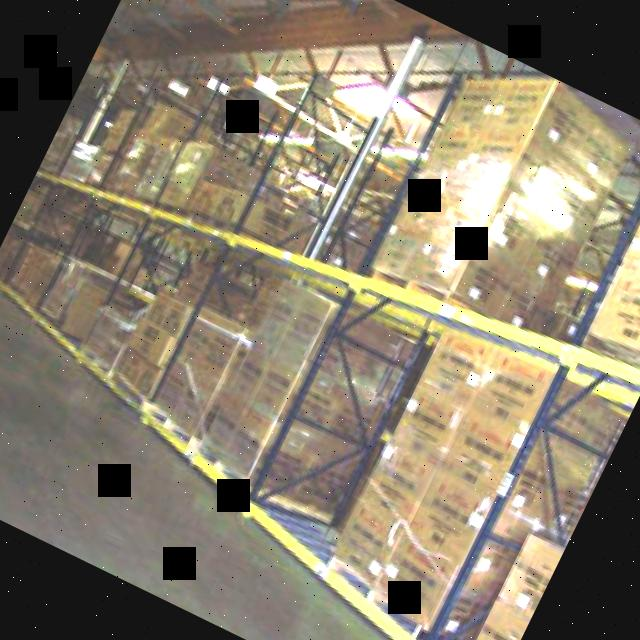box: (449, 47, 640, 196), (382, 193, 566, 333), (412, 130, 598, 265), (370, 448, 501, 626), (332, 425, 440, 576), (397, 326, 496, 448), (454, 351, 552, 473), (251, 290, 333, 419), (232, 277, 304, 395), (587, 214, 640, 349), (171, 317, 244, 397), (200, 386, 251, 455), (156, 380, 211, 433), (140, 282, 195, 335), (227, 412, 272, 474), (124, 318, 174, 366), (112, 351, 161, 395)
